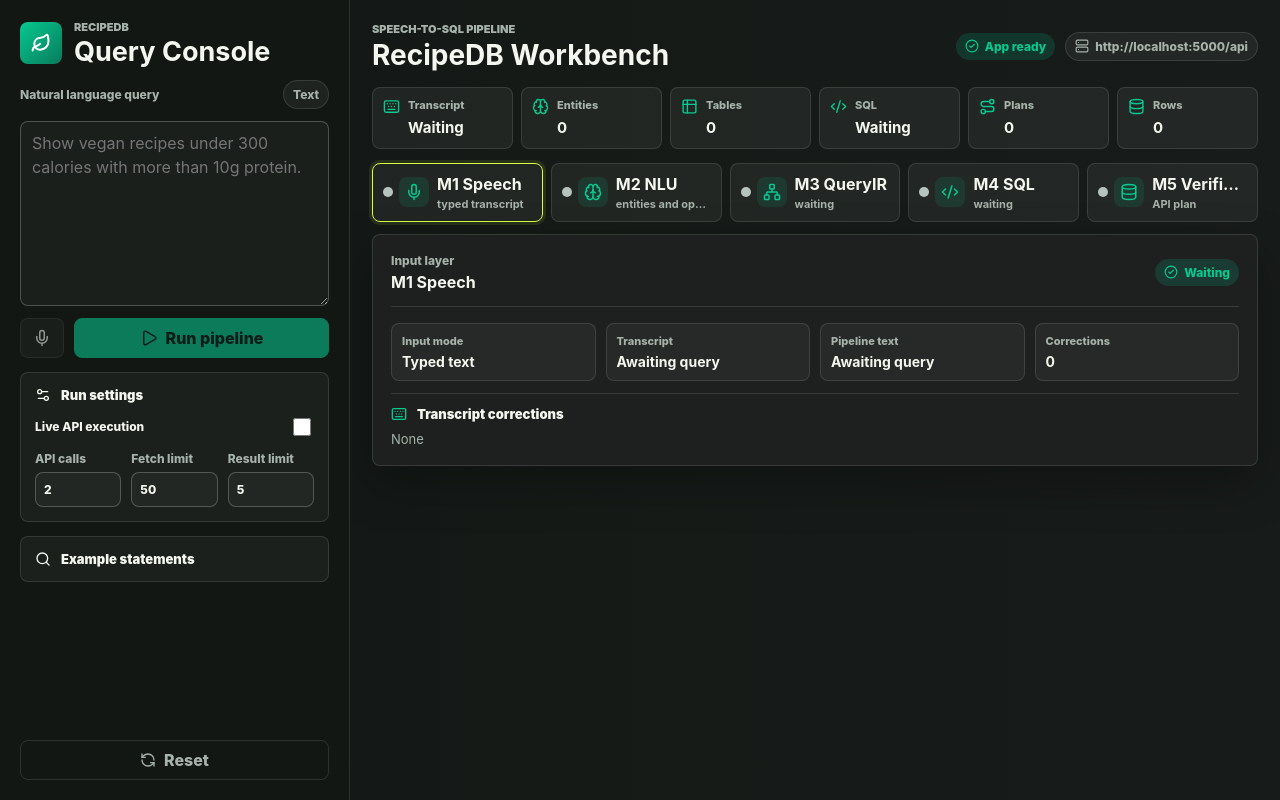
Test case: runs a query and renders module SQL proof output
The width and height of the screenshot is (1280, 800).
Step 1. Replace the text in the text box labelled "Natural language query" with "show recipes with chicken" → (174, 213), box [20,121,329,306]
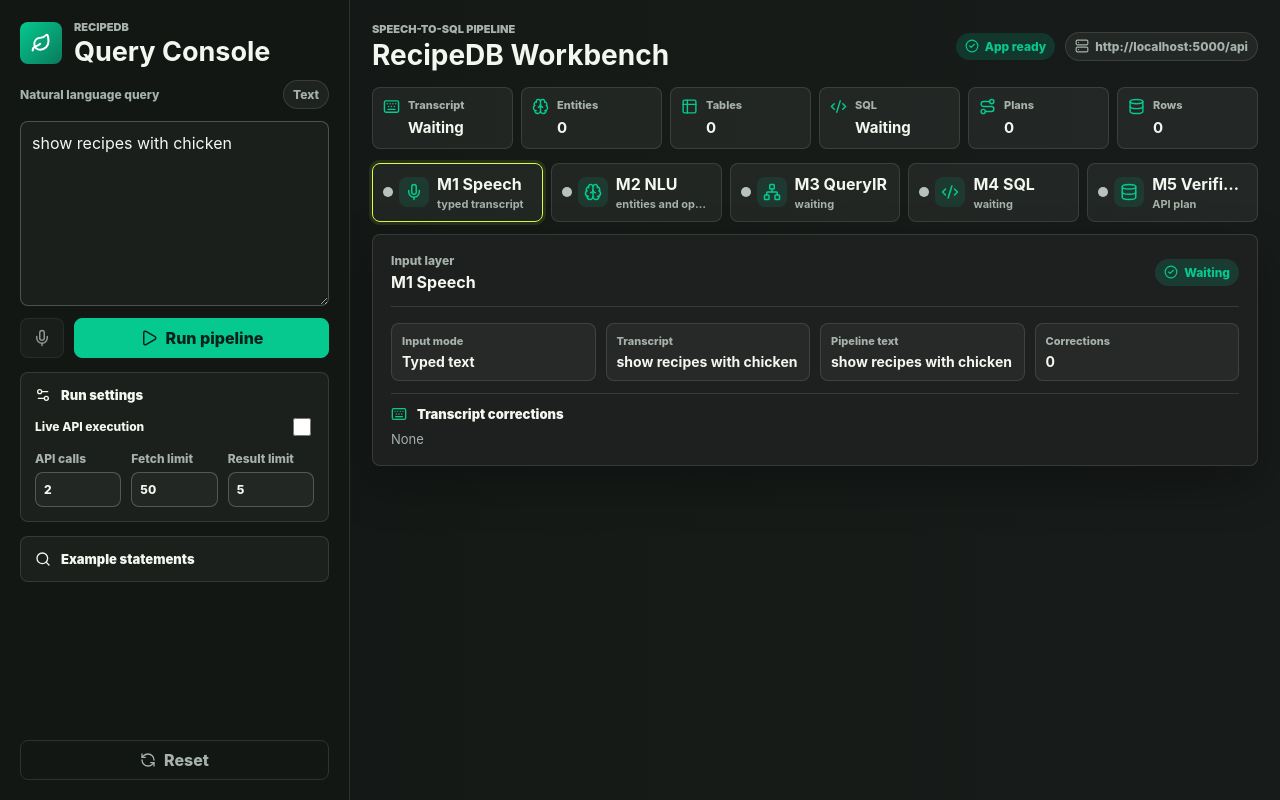
Step 2. Click the button "Run pipeline" → click(202, 338), box [74,318,329,358]
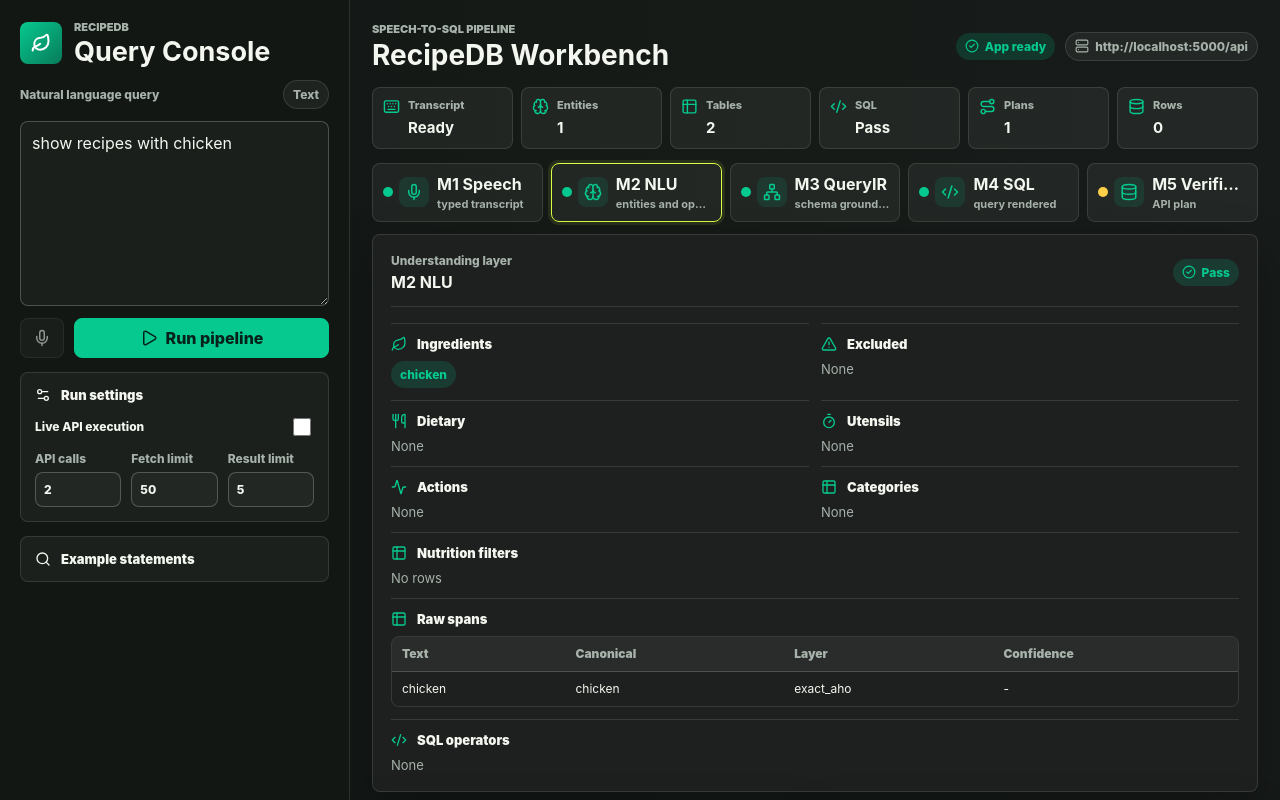
Step 3. Click the button "M4 SQL query rendered" → click(994, 192), box [908,163,1079,222]
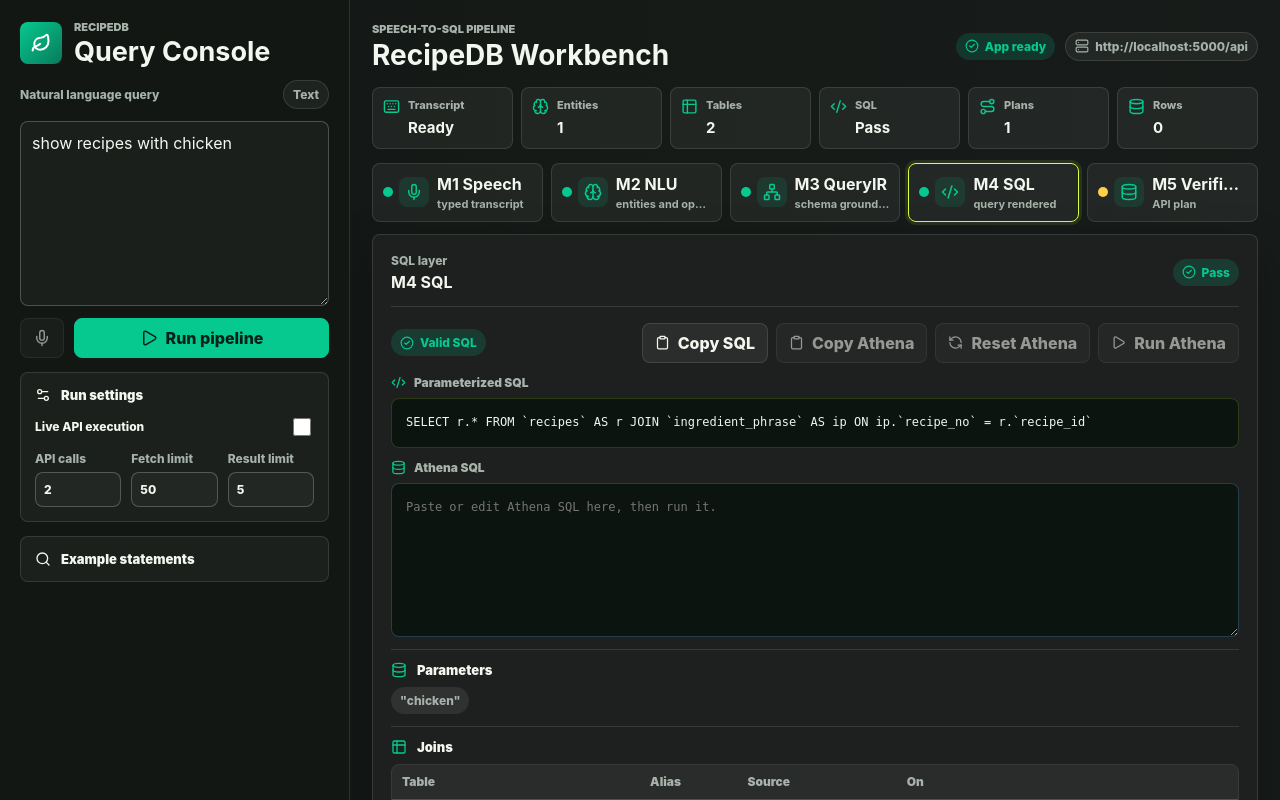
expect the text "Valid SQL" is shown: met, box [391,329,486,356]
expect the text "ingredient_phrase" is shown: met, box [406,415,1092,429]
